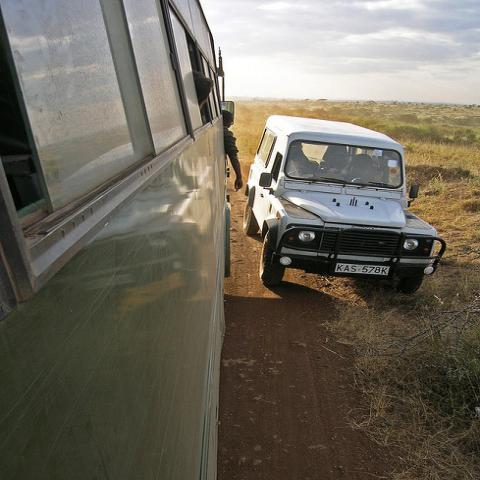bus: (1, 2, 236, 475)
car: (242, 114, 446, 294)
truck: (243, 116, 446, 295)
